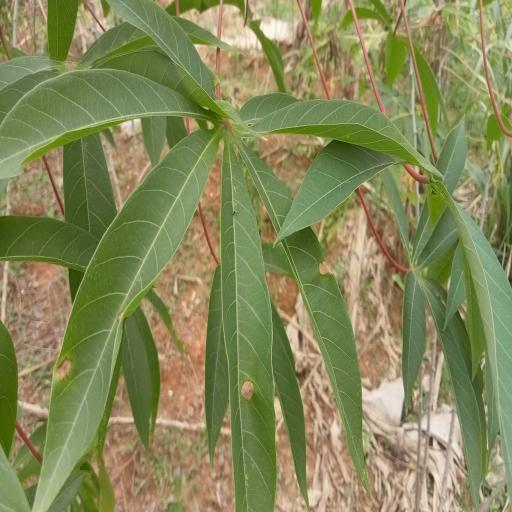Cassava_Brown_Leaf_Spot: (1, 9, 372, 501)
